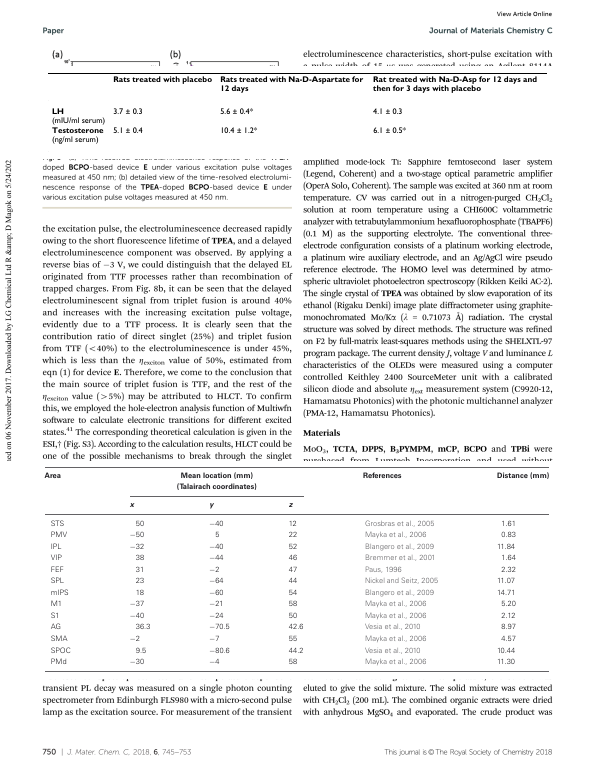borderless: (44, 466, 549, 671), (46, 71, 548, 153)
cell: (372, 76, 537, 94), (219, 76, 364, 94), (176, 472, 258, 492), (50, 107, 106, 126), (50, 127, 104, 145), (112, 76, 213, 85), (364, 577, 439, 586), (364, 555, 436, 564), (364, 520, 435, 529), (364, 543, 435, 552), (364, 589, 435, 598), (364, 612, 427, 621), (364, 635, 427, 644), (364, 658, 427, 667), (364, 624, 421, 633), (364, 647, 421, 656), (364, 532, 427, 540), (364, 601, 427, 609), (496, 472, 550, 480), (219, 126, 258, 136), (364, 566, 403, 575), (219, 107, 254, 117), (372, 126, 406, 136), (362, 472, 403, 480), (112, 107, 143, 117), (372, 107, 403, 117), (112, 126, 143, 136), (208, 624, 231, 633), (208, 647, 231, 656), (50, 647, 72, 656), (496, 543, 516, 552), (496, 577, 516, 586), (50, 589, 70, 598), (496, 589, 516, 598), (496, 647, 516, 656), (496, 658, 516, 667), (50, 635, 68, 644), (50, 658, 68, 667), (208, 520, 225, 529), (500, 520, 517, 529), (208, 543, 225, 552), (208, 555, 225, 564), (500, 555, 517, 564), (500, 566, 517, 575), (208, 577, 225, 586), (208, 589, 225, 598), (208, 601, 225, 610), (208, 612, 225, 621), (500, 624, 517, 633), (500, 635, 517, 644), (43, 472, 62, 480), (50, 532, 68, 540), (129, 543, 145, 552), (129, 601, 145, 610), (129, 612, 145, 621), (500, 612, 516, 621), (135, 624, 151, 633), (288, 624, 304, 633), (288, 647, 304, 656), (129, 658, 145, 667), (500, 532, 517, 540), (500, 601, 517, 609), (50, 520, 65, 529), (50, 566, 65, 575), (50, 577, 65, 586), (129, 532, 145, 540), (50, 543, 63, 552), (50, 555, 63, 564), (50, 601, 63, 610), (208, 566, 220, 575), (50, 624, 62, 633), (129, 635, 141, 644), (208, 635, 220, 644), (135, 647, 147, 656), (208, 658, 220, 667), (135, 520, 145, 529), (288, 520, 298, 529), (288, 543, 298, 552), (135, 555, 145, 564), (288, 555, 298, 564), (135, 566, 145, 575), (288, 566, 298, 575), (135, 577, 145, 586), (288, 577, 298, 586), (135, 589, 145, 598), (288, 589, 298, 598), (288, 601, 298, 610), (50, 612, 60, 621), (288, 612, 298, 621), (288, 635, 298, 644), (288, 658, 298, 667), (288, 532, 298, 540), (214, 532, 220, 540), (129, 503, 135, 510), (208, 503, 214, 510), (288, 503, 293, 510)
